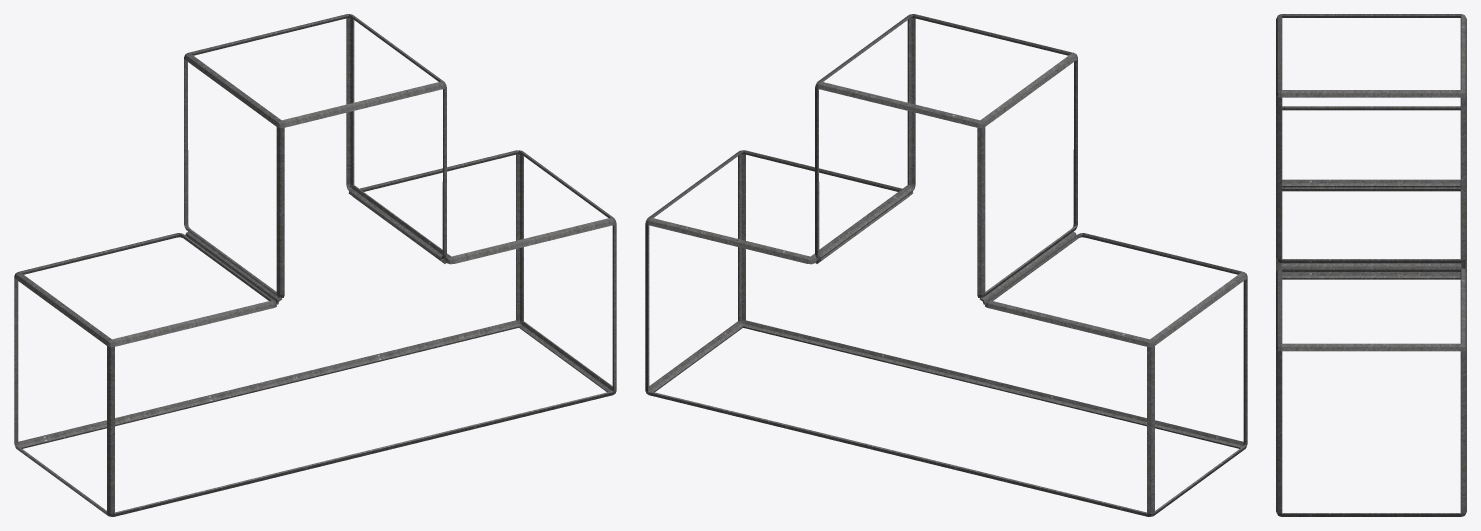
Rendered from T_arm.fbx.
The picture shows the model from 3 angles, left to right: view 1: azimuth 30°, elevation 25°; view 2: azimuth 150°, elevation 25°; view 3: azimuth 270°, elevation 25°; orthographic projection. The views are drawn at different scales.
Visible parts, largest first — view 1: module_te_armature; view 2: module_te_armature; view 3: module_te_armature.
Boxes of the visible parts, x1,y1,x2,y2 form: module_te_armature: [14, 14, 616, 516]; module_te_armature: [645, 14, 1247, 516]; module_te_armature: [1276, 14, 1466, 516].
Size of the model in its own units: 300 by 200 by 100.
